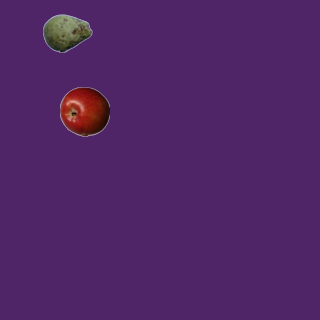Apple Braeburn: (59, 86, 109, 136)
Pear Stone: (42, 8, 92, 58)
